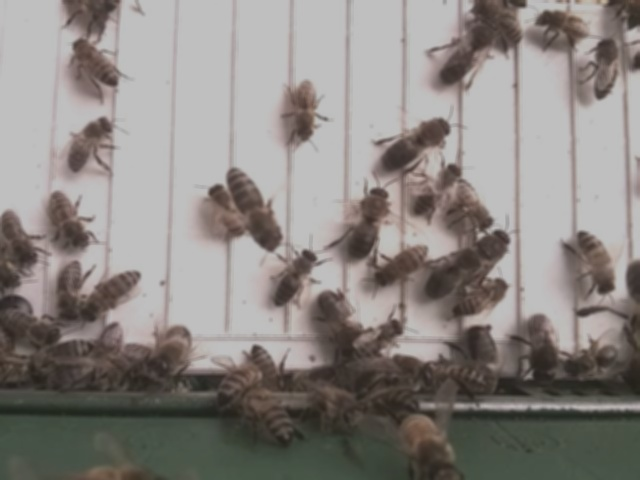Drone: (423, 237, 497, 301), (438, 16, 498, 87), (380, 115, 454, 171), (346, 184, 393, 260), (317, 288, 363, 359), (525, 308, 562, 386)
Worker: (228, 165, 281, 247), (84, 267, 142, 324), (70, 35, 123, 90), (578, 227, 618, 299), (47, 189, 93, 247), (452, 275, 511, 320), (450, 175, 498, 230), (373, 243, 430, 289), (274, 248, 318, 307), (415, 162, 463, 216), (70, 115, 114, 173), (352, 317, 403, 363), (0, 308, 64, 344), (473, 0, 525, 44), (564, 340, 622, 379), (0, 204, 37, 263), (591, 35, 623, 103), (53, 260, 87, 323), (210, 183, 246, 239), (290, 75, 319, 144), (536, 7, 590, 44)
